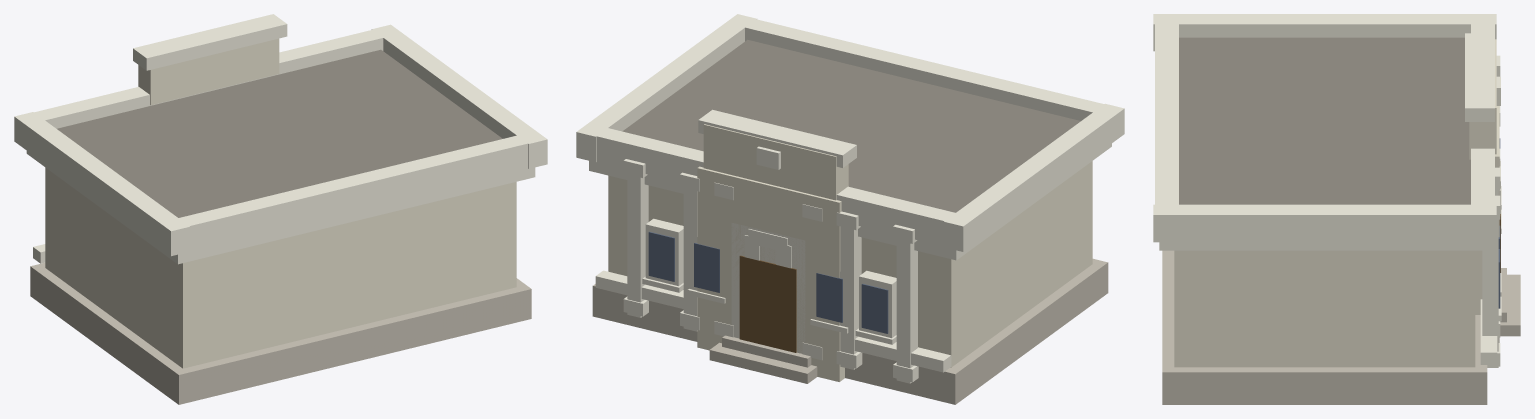
The model's file is lab.glb.
3 views of the same model, side by side, from view 1: azimuth 30°, elevation 25°; view 2: azimuth 150°, elevation 25°; view 3: azimuth 270°, elevation 25° (orthographic). The views are drawn at different scales.
Parts seen in each view (by area): view 1: hospital; view 2: hospital; view 3: hospital.
Part boxes in pixels (x1,y1,x2,y2): hospital: [14, 14, 547, 404]; hospital: [576, 14, 1124, 404]; hospital: [1153, 14, 1520, 404].
Size of what is drawn, in the model's own units: 15.8 by 8.8 by 12.2.
